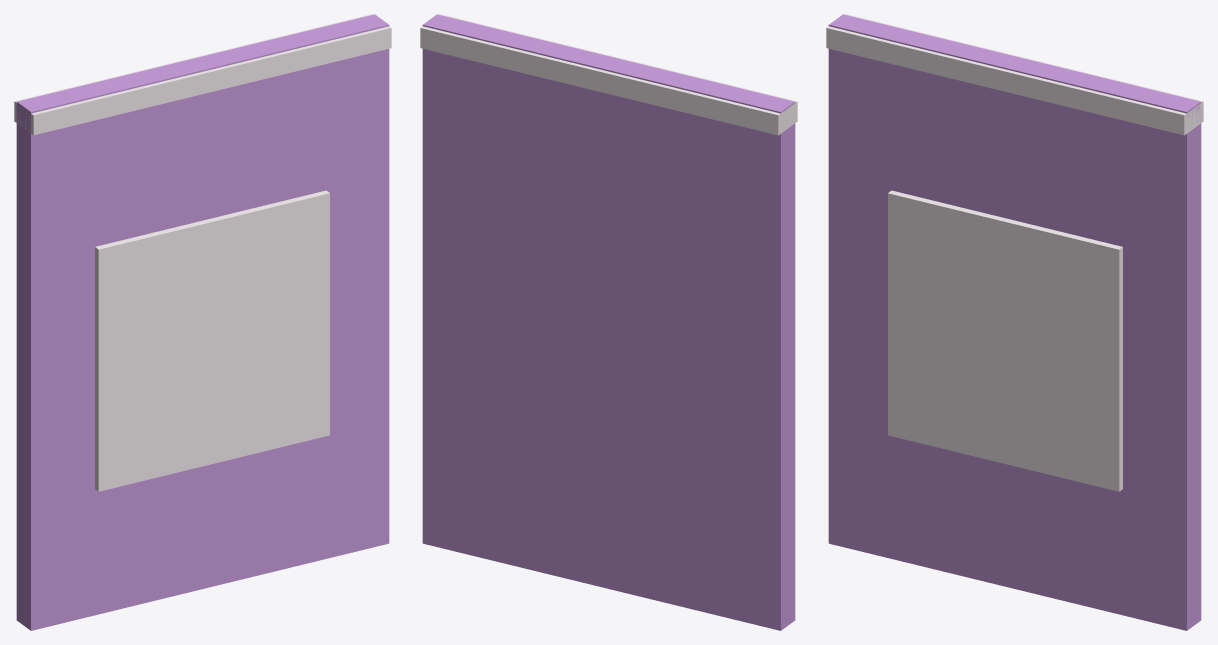
Rendered from TRD-02-04.glb.
3 views of the same model, side by side, from view 1: azimuth 30°, elevation 25°; view 2: azimuth 150°, elevation 25°; view 3: azimuth 330°, elevation 25° (orthographic).
Parts seen in each view (by area): view 1: TRD-02-04; view 2: TRD-02-04; view 3: TRD-02-04.
Part boxes in pixels (left/top/right/bottom): TRD-02-04: left=14, top=14, right=391, bottom=630; TRD-02-04: left=420, top=14, right=797, bottom=630; TRD-02-04: left=826, top=14, right=1203, bottom=630.
Size of the model in its own units: 0.65 by 0.9 by 0.066.
